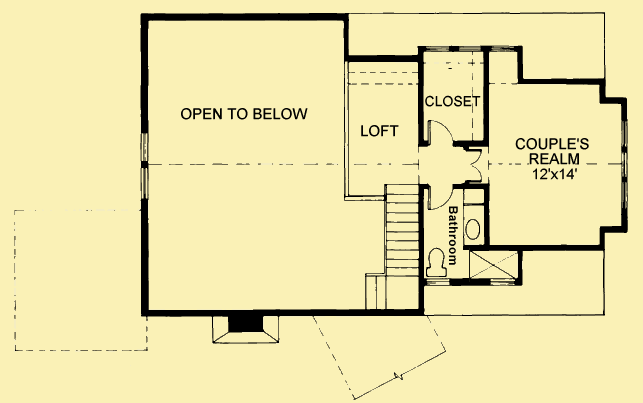door: (424, 182, 454, 211), (463, 146, 483, 183), (426, 118, 454, 144)
large_sink: (426, 248, 448, 280)
small_sink: (460, 201, 486, 247)
stairs: (362, 183, 422, 313)
window: (137, 132, 150, 198)
